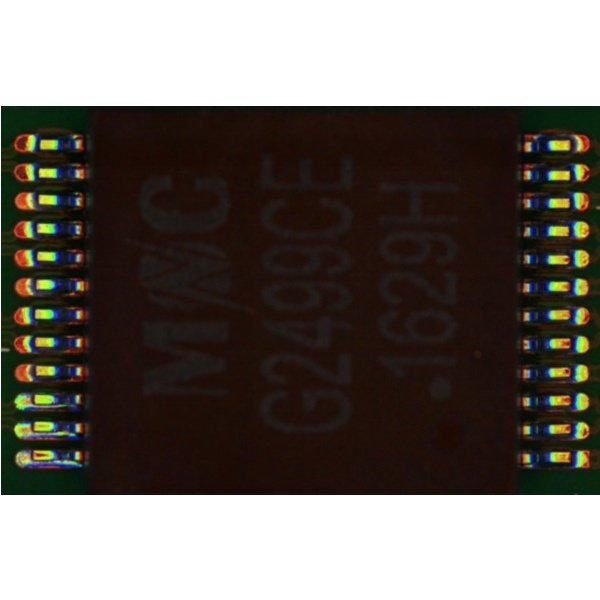Bad_podu: (24, 395, 38, 404), (25, 422, 37, 432), (26, 452, 37, 461)
Bad_qiaojiao: (32, 461, 82, 467), (33, 432, 75, 437), (33, 404, 74, 409)
